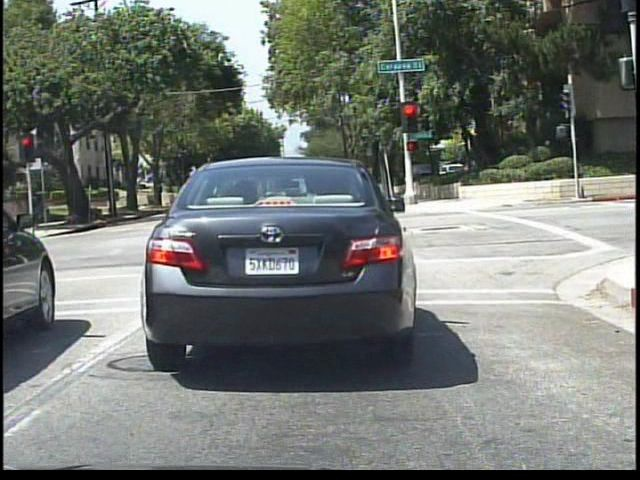person: (28, 184, 49, 231)
